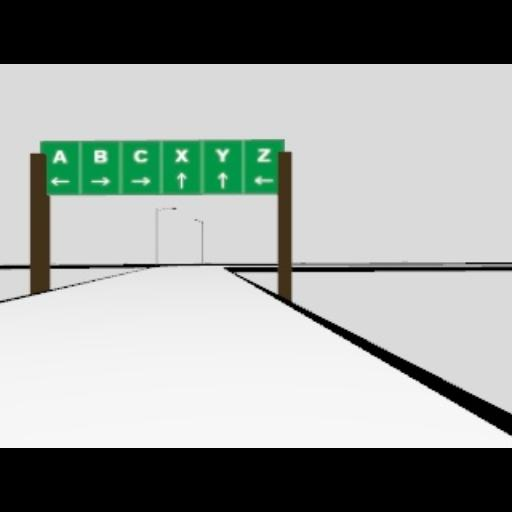A: (51, 149, 67, 163)
B: (93, 149, 107, 163)
C: (133, 147, 147, 163)
Left: (48, 174, 70, 186), (252, 174, 274, 184)
Right: (130, 176, 150, 186), (90, 176, 110, 186)
Straight: (216, 171, 228, 189), (176, 171, 186, 189)
X: (175, 147, 189, 161)
Y: (215, 147, 229, 161)
Z: (256, 147, 270, 161)
